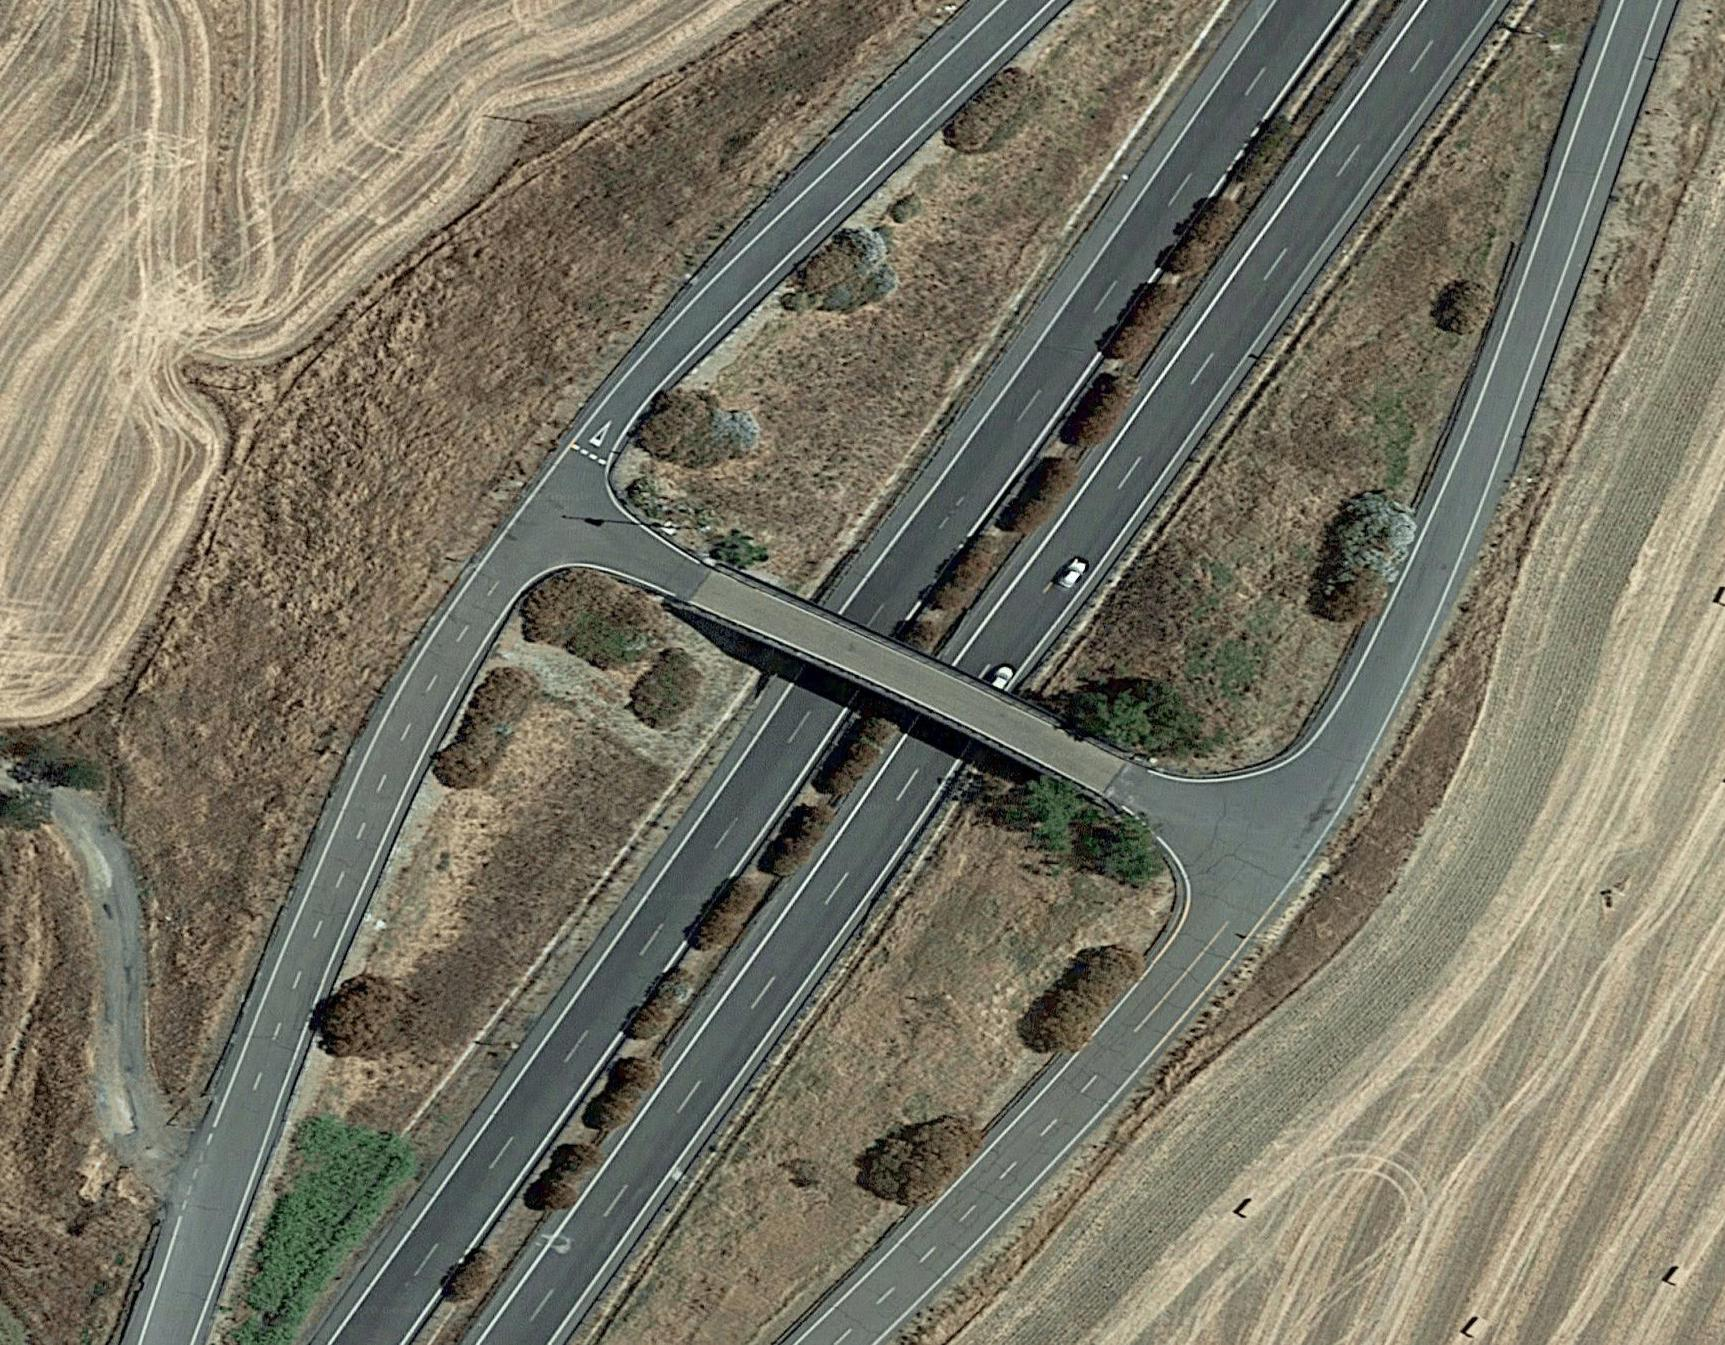bridge: (746, 558, 1045, 823)
small-vehicle: (1054, 556, 1089, 592)
